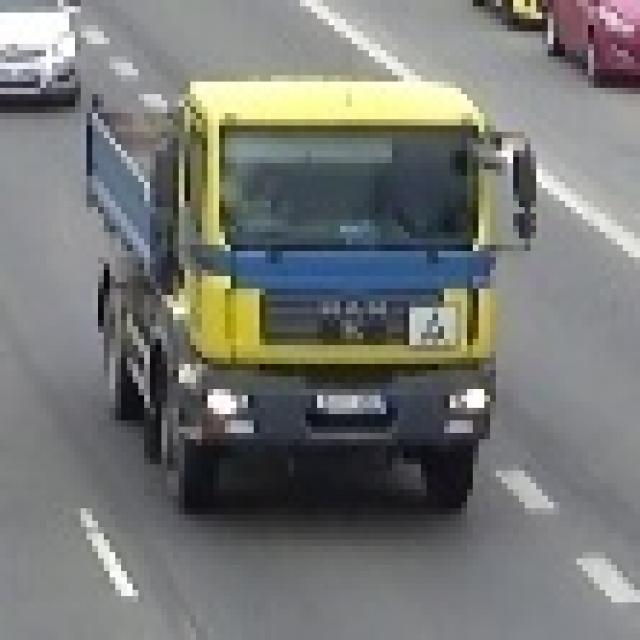truck: (64, 0, 536, 502)
